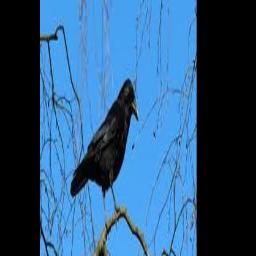Crow: (70, 77, 139, 230)
